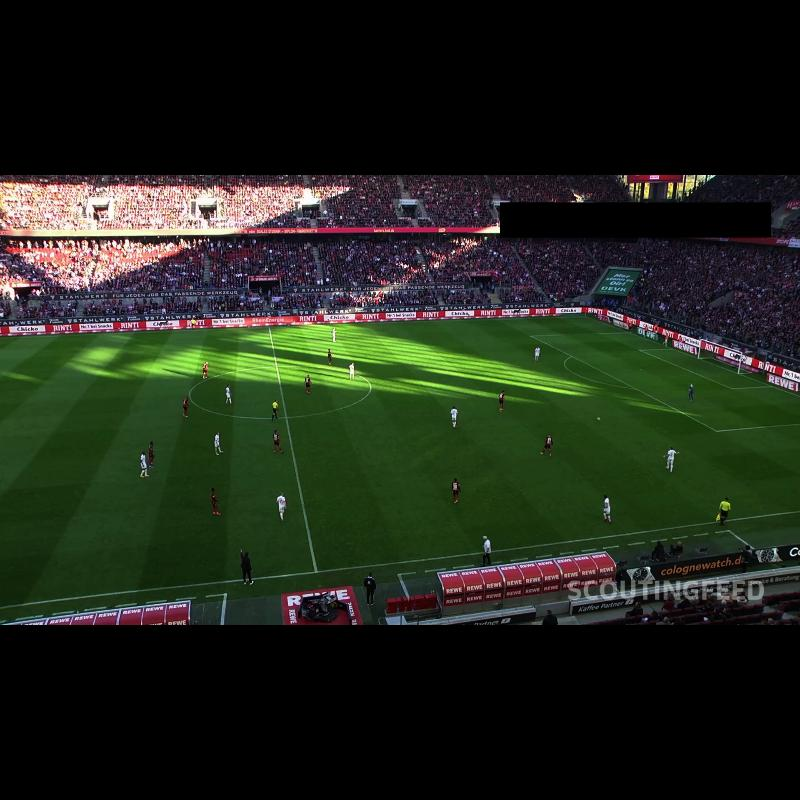cross_recipient_zone: (530, 332, 800, 431)
crossing_player_zone: (609, 423, 800, 521), (432, 316, 628, 338), (0, 335, 97, 357)
pitch: (0, 316, 800, 607)
